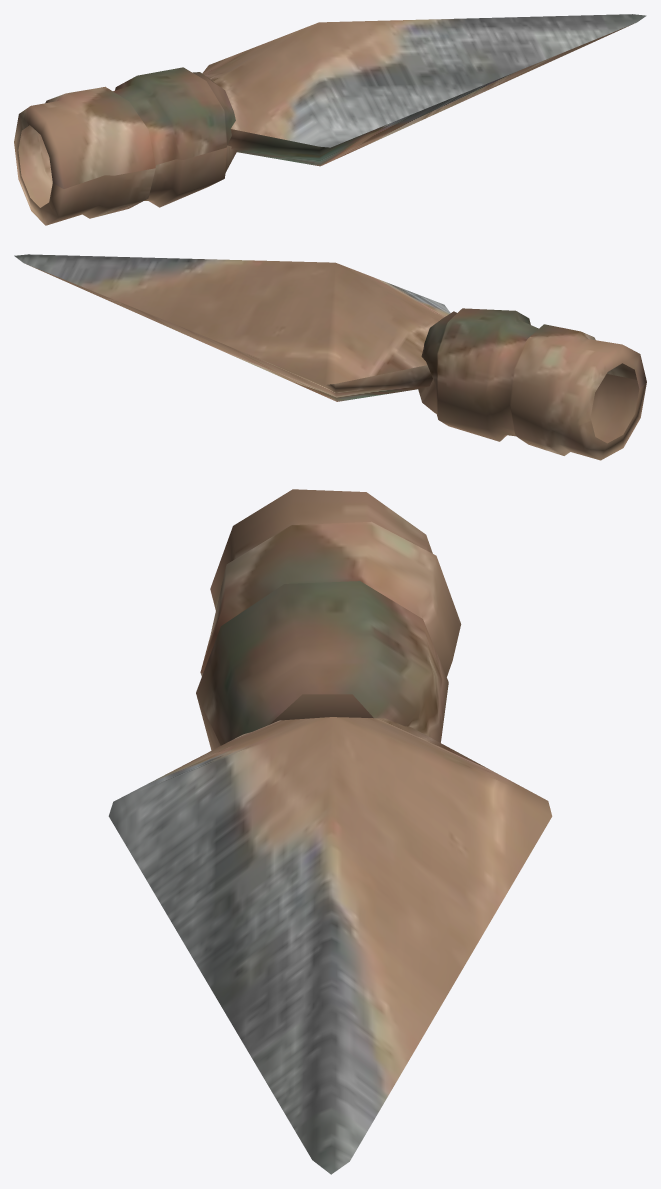
3 views of the same model, one above another, from view 1: azimuth 30°, elevation 25°; view 2: azimuth 150°, elevation 25°; view 3: azimuth 270°, elevation 25° (orthographic). The views are drawn at different scales.
Parts seen in each view (by area): view 1: SM_ArrowHead_Bronze_01_LOD0; view 2: SM_ArrowHead_Bronze_01_LOD0; view 3: SM_ArrowHead_Bronze_01_LOD0.
Boxes of the visible parts, <box> form: SM_ArrowHead_Bronze_01_LOD0: <box>14,14,646,225</box>; SM_ArrowHead_Bronze_01_LOD0: <box>14,254,646,460</box>; SM_ArrowHead_Bronze_01_LOD0: <box>108,489,552,1174</box>.
Size of the model in its own units: 0.1259 by 0.0279 by 0.04.
